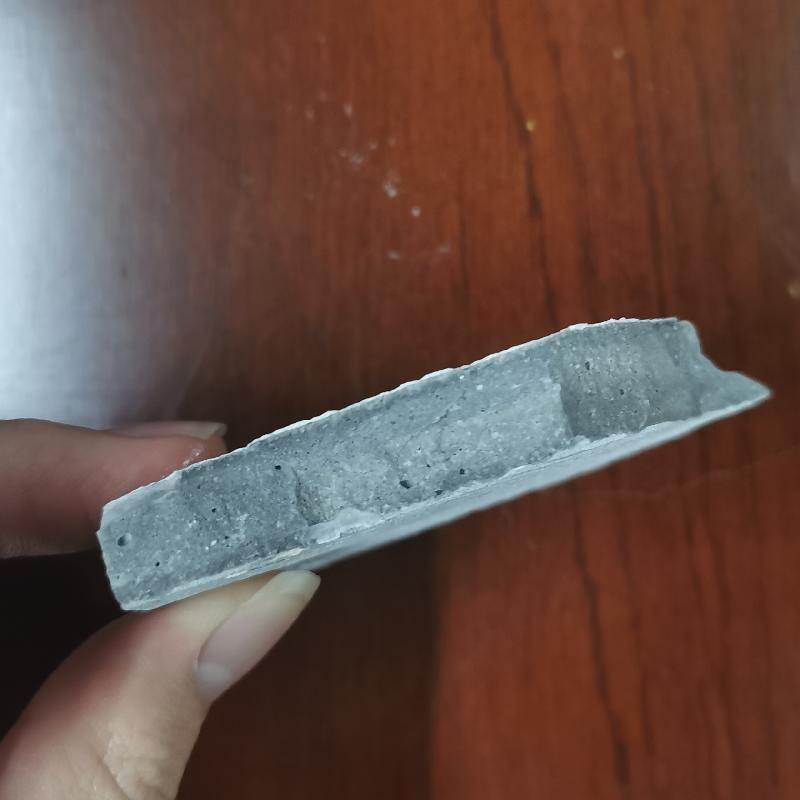tile: (80, 286, 774, 613)
